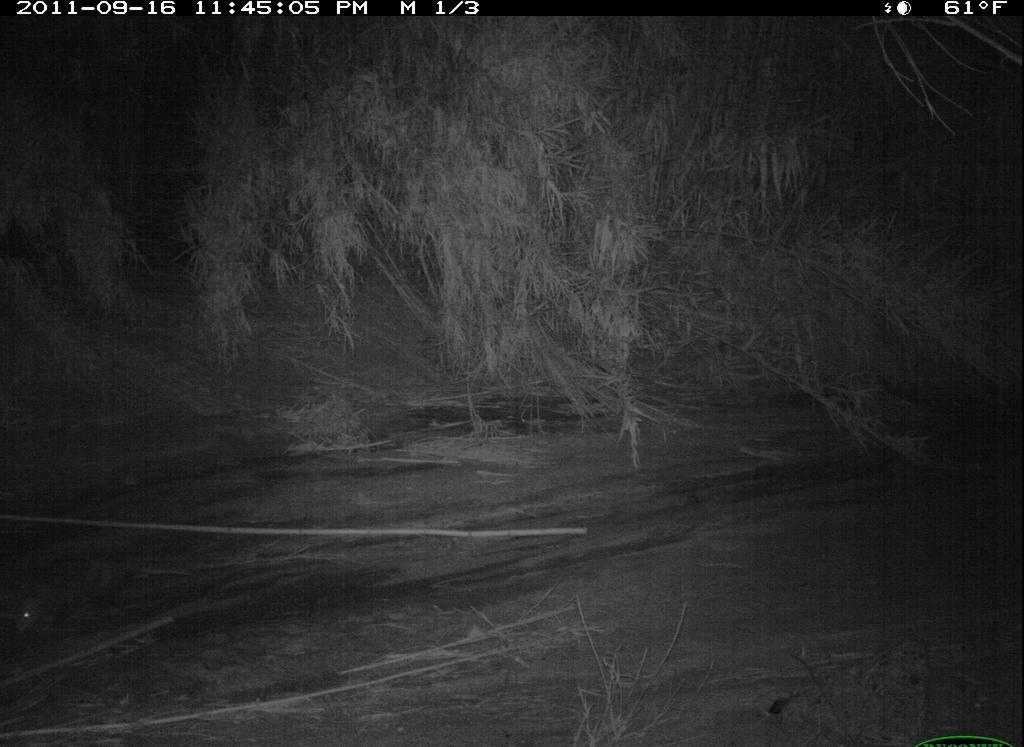opossum: (20, 546, 200, 644)
